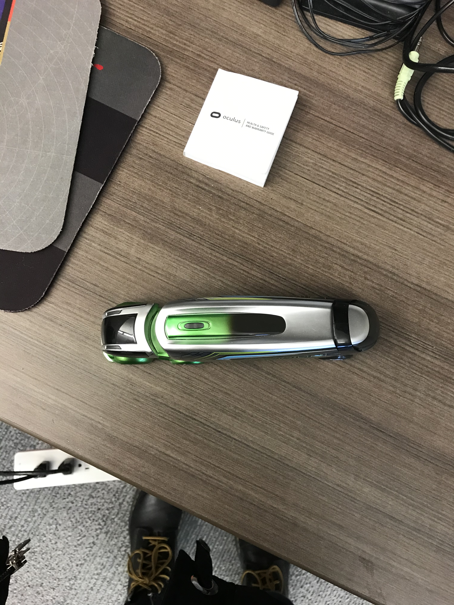Freewheel: (101, 293, 380, 366)
